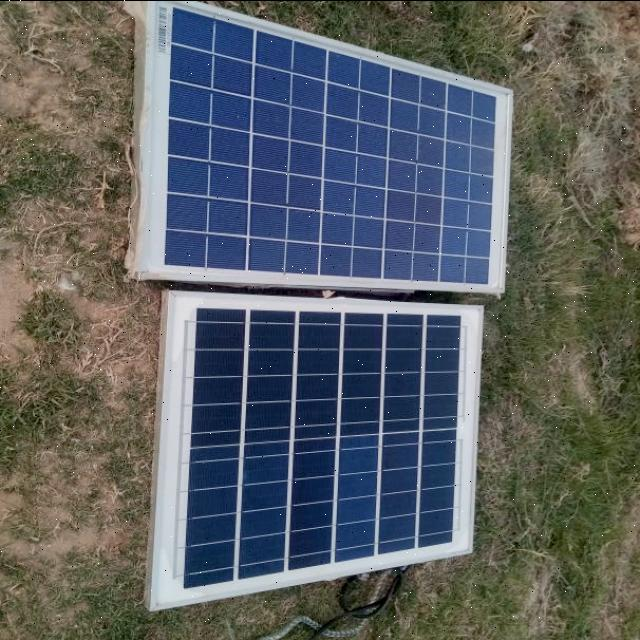Normal Solar Panel: (140, 1, 506, 294), (150, 294, 482, 608)
